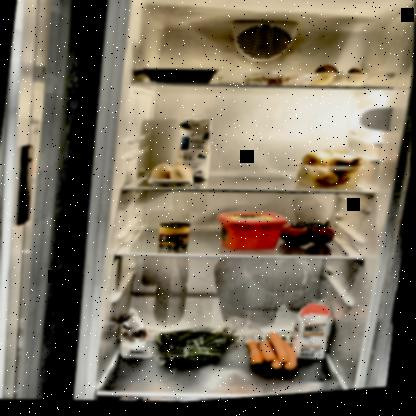butter: (210, 210, 284, 259)
carrot: (244, 331, 300, 380)
corn: (157, 221, 195, 255)
eggs: (149, 162, 194, 190)
green_beans: (152, 324, 242, 374)
milk: (172, 119, 213, 187)
onion: (294, 147, 366, 200)
potato: (305, 65, 367, 97)
shrimp: (241, 73, 306, 95)
tomato: (277, 221, 338, 256)
